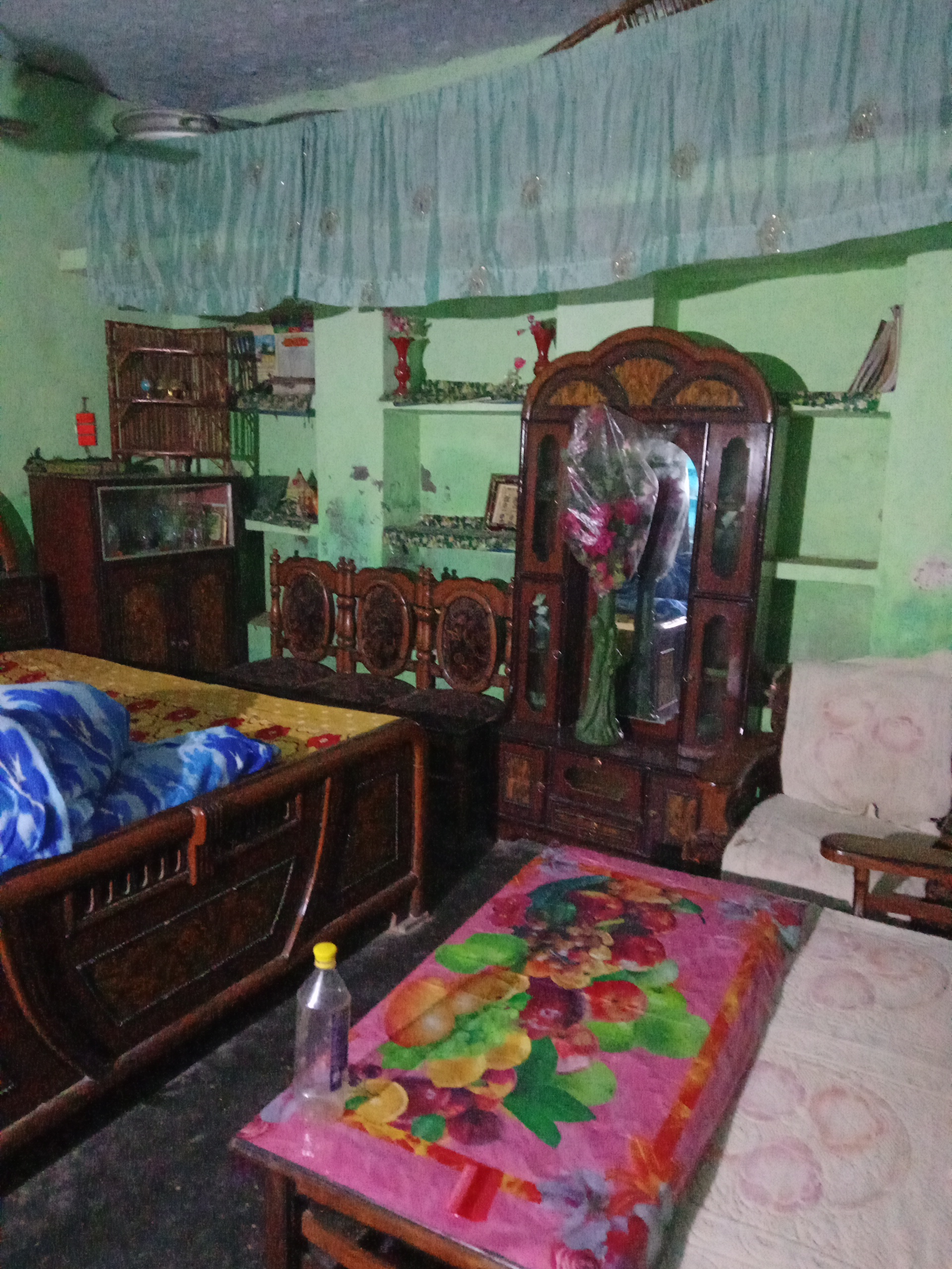bed: (0, 644, 429, 1194)
sofa: (715, 653, 952, 915)
table: (227, 847, 806, 1269)
